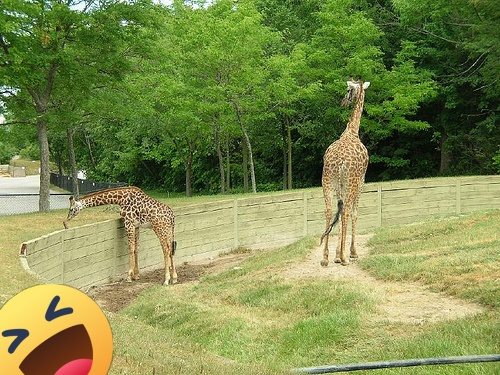haha: (0, 284, 113, 375)
